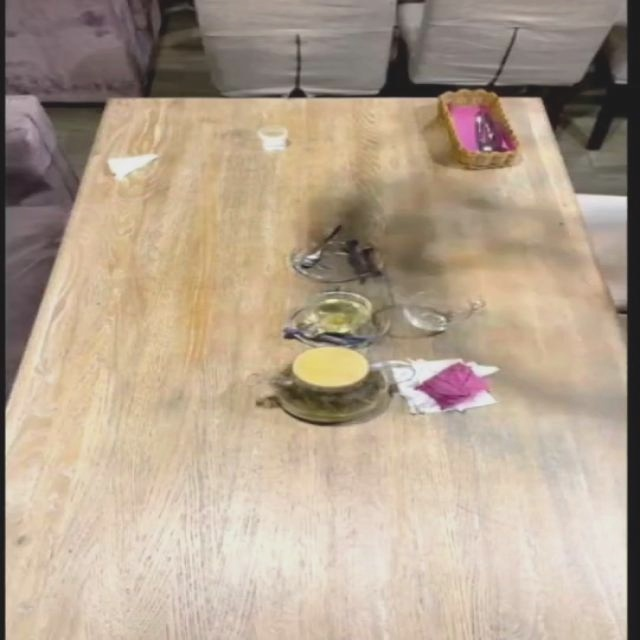tea: (268, 345, 392, 423)
